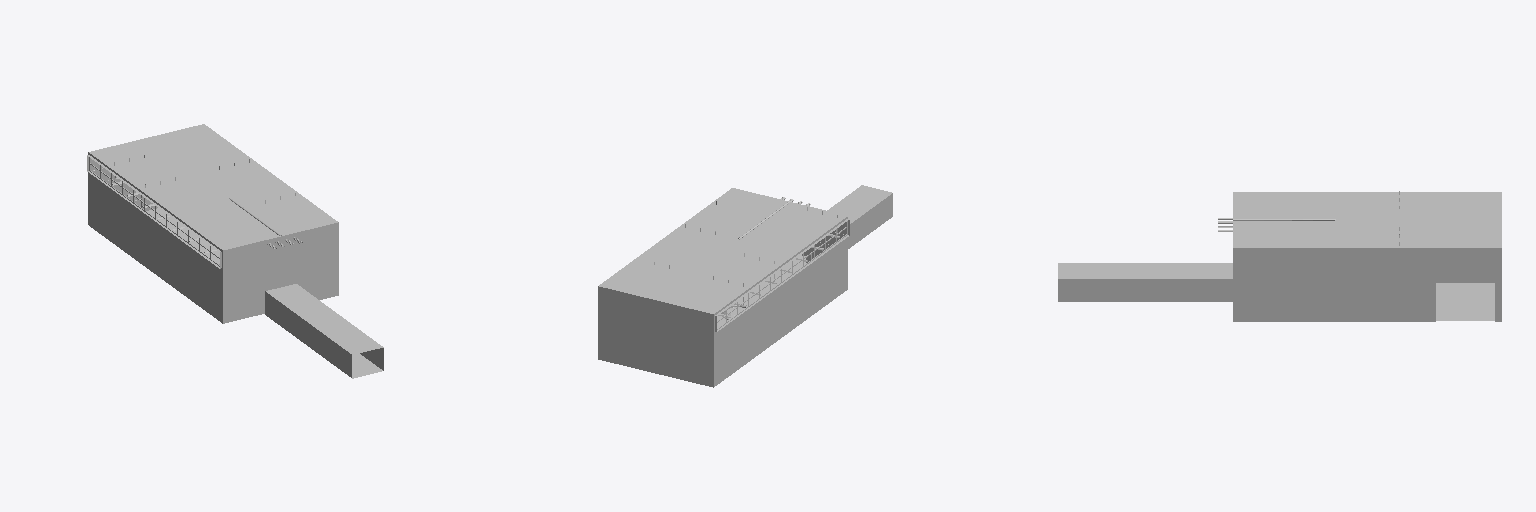
The model's file is level_1_all.obj.
The picture shows the model from 3 angles: view 1: azimuth 30°, elevation 25°; view 2: azimuth 150°, elevation 25°; view 3: azimuth 270°, elevation 25°; orthographic projection.
Visible parts, largest first — view 1: polySurface779 polySurface408 pTorus12, pCube229, polySurface789 polySurface1387; view 2: polySurface779 polySurface408 pTorus12, pCube229, polySurface789 polySurface1387; view 3: polySurface779 polySurface408 pTorus12, pCube229, pPlane14 polySurface775.
Part boxes in pixels (bbox=[...]): polySurface779 polySurface408 pTorus12: bbox=[87, 124, 338, 323]; pCube229: bbox=[265, 284, 383, 378]; polySurface789 polySurface1387: bbox=[89, 156, 219, 266]; polySurface779 polySurface408 pTorus12: bbox=[598, 188, 849, 387]; pCube229: bbox=[777, 185, 892, 275]; polySurface789 polySurface1387: bbox=[717, 219, 847, 329]; polySurface779 polySurface408 pTorus12: bbox=[1233, 192, 1501, 321]; pCube229: bbox=[1058, 263, 1232, 301]; pPlane14 polySurface775: bbox=[1436, 283, 1494, 320].
Bounding box in the file's own units: 192 × 125 × 625.